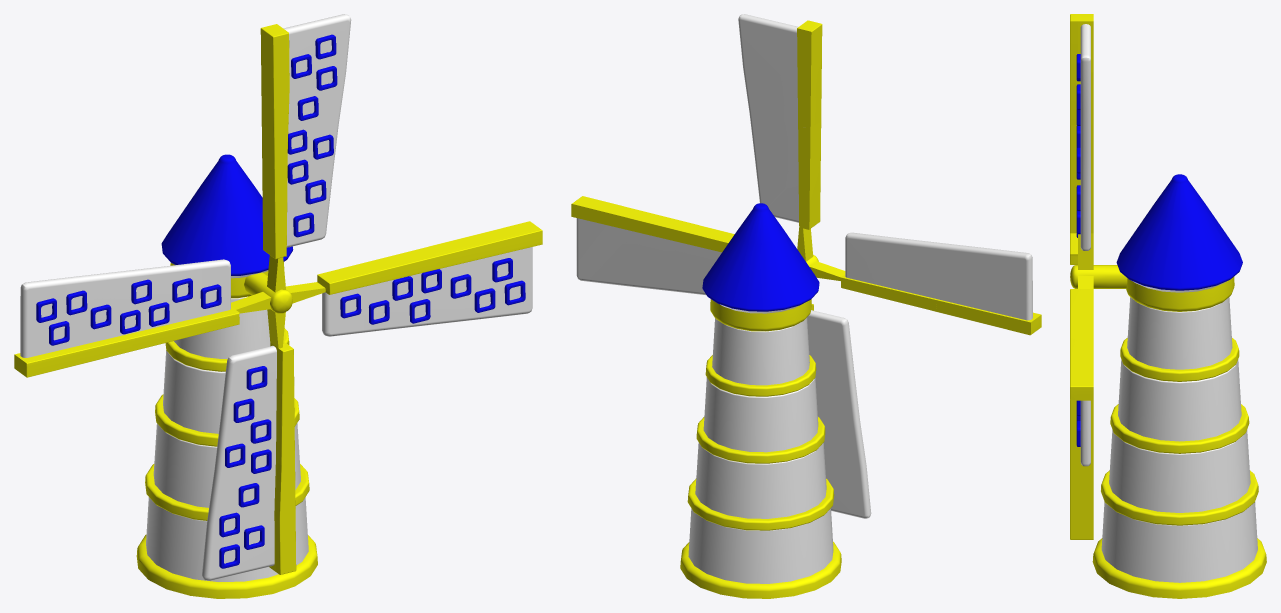
File: wind-mill.fbx
3 views of the same model, side by side, from view 1: azimuth 30°, elevation 25°; view 2: azimuth 150°, elevation 25°; view 3: azimuth 270°, elevation 25° (orthographic). The views are drawn at different scales.
Visible parts, largest first — view 1: wheel_d_2, mill_building, wheel_c_2, wheel_a_2, wheel_b_2, mill_building_5, wheel_b, wheel_a, wheel_d, mill_building_3, wheel_c, mill_building_4 (+1 smaller); view 2: mill_building, wheel_c_2, mill_building_5, wheel_b_2, mill_building_3, wheel_d_2, wheel_a_2, mill_building_4, wheel_b, wheel_a, wheel_c; view 3: mill_building, mill_building_5, mill_building_3, mill_building_4, wheel_b_2, wheel_b, wheel_a, wheel_d, wheel, wheel_a_2.
Part boxes in pixels (bbox=[...]): wheel_d_2: bbox=[202, 345, 276, 580]; mill_building: bbox=[136, 423, 317, 598]; wheel_c_2: bbox=[20, 259, 230, 357]; wheel_a_2: bbox=[322, 247, 532, 336]; wheel_b_2: bbox=[283, 14, 351, 247]; mill_building_5: bbox=[161, 154, 293, 298]; wheel_b: bbox=[260, 24, 289, 292]; wheel_a: bbox=[286, 221, 542, 303]; wheel_d: bbox=[267, 309, 296, 574]; mill_building_3: bbox=[155, 350, 299, 446]; wheel_c: bbox=[14, 292, 270, 377]; mill_building_4: bbox=[165, 296, 289, 371]; mill_building: bbox=[680, 442, 841, 598]; wheel_c_2: bbox=[845, 232, 1032, 320]; mill_building_5: bbox=[702, 203, 819, 331]; wheel_b_2: bbox=[738, 14, 798, 222]; mill_building_3: bbox=[696, 377, 825, 463]; wheel_d_2: bbox=[807, 310, 871, 518]; wheel_a_2: bbox=[576, 218, 721, 295]; mill_building_4: bbox=[705, 317, 816, 396]; wheel_b: bbox=[797, 20, 822, 261]; wheel_a: bbox=[571, 196, 734, 252]; wheel_c: bbox=[809, 261, 1041, 335]; mill_building: bbox=[1092, 429, 1266, 598]; mill_building_5: bbox=[1116, 174, 1242, 311]; mill_building_3: bbox=[1110, 359, 1249, 453]; mill_building_4: bbox=[1120, 297, 1239, 381]; wheel_b_2: bbox=[1076, 24, 1090, 250]; wheel_b: bbox=[1070, 14, 1093, 269]; wheel_a: bbox=[1070, 276, 1093, 400]; wheel_d: bbox=[1070, 400, 1093, 539]; wheel: bbox=[1070, 265, 1127, 288]; wheel_a_2: bbox=[1076, 400, 1090, 466].
Size of the model in its own units: 1084 by 1142 by 375.
